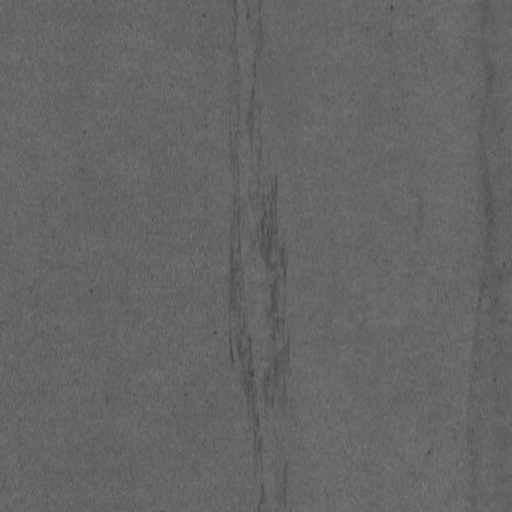zongxianghuashang: (227, 2, 292, 509)
